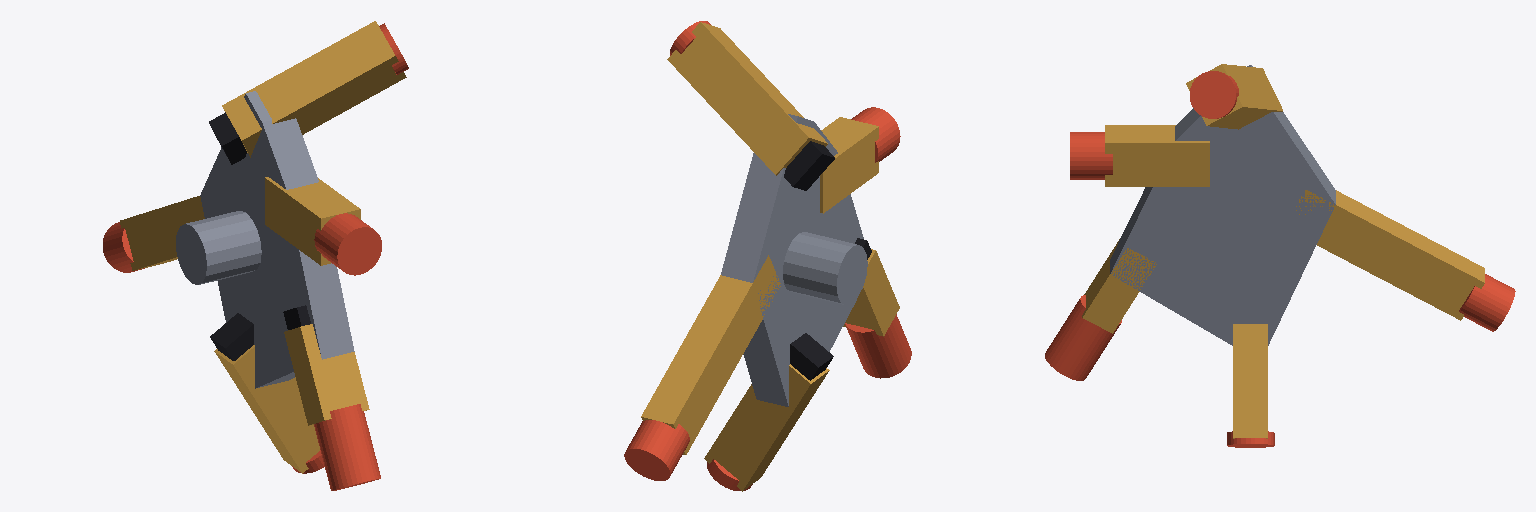
robot.urdf — g0056_c06:
<robot name="g0056_c06">
  <link name="palm">
    <visual name="palm_palm1">
      <origin xyz="0 0 0" rpy="0 0 0" />
      <geometry>
        <mesh filename="palm_palm1.obj" />
      </geometry>
      <material name="palm_palm1_mat">
        <color rgba="0.55 0.57 0.62 1" />
      </material>
    </visual>
    <collision>
      <origin xyz="0 0 0" rpy="0 0 0" />
      <geometry>
        <mesh filename="palm_palm1.obj" />
      </geometry>
    </collision>
    <visual name="palm_mount2">
      <origin xyz="0 0 0" rpy="0 0 0" />
      <geometry>
        <mesh filename="palm_mount2.obj" />
      </geometry>
      <material name="palm_mount2_mat">
        <color rgba="0.55 0.57 0.62 1" />
      </material>
    </visual>
    <collision>
      <origin xyz="0 0 0" rpy="0 0 0" />
      <geometry>
        <mesh filename="palm_mount2.obj" />
      </geometry>
    </collision>
    <visual name="palm_motor3">
      <origin xyz="-0.0045 -0.07625 -0.0335048095" rpy="1.04719755 -3.061617e-17 -5.30287619e-17" />
      <geometry>
        <box size="0.029 0.034 0.02" />
      </geometry>
      <material name="palm_motor3_mat">
        <color rgba="0.15 0.15 0.17 1" />
      </material>
    </visual>
    <collision>
      <origin xyz="-0.0045 -0.07625 -0.0335048095" rpy="1.04719755 -3.061617e-17 -5.30287619e-17" />
      <geometry>
        <box size="0.029 0.034 0.02" />
      </geometry>
    </collision>
    <visual name="palm_motor4">
      <origin xyz="0 -0.0325 0.04" rpy="-0 -1.57079633 0" />
      <geometry>
        <box size="0.029 0.034 0.02" />
      </geometry>
      <material name="palm_motor4_mat">
        <color rgba="0.15 0.15 0.17 1" />
      </material>
    </visual>
    <collision>
      <origin xyz="0 -0.0325 0.04" rpy="-0 -1.57079633 0" />
      <geometry>
        <box size="0.029 0.034 0.02" />
      </geometry>
    </collision>
    <visual name="palm_motor5">
      <origin xyz="-0.0117894192 -7.95431429e-19 -0.0735048095" rpy="1.57079633 -0.523598776 -1.41410032e-16" />
      <geometry>
        <box size="0.029 0.034 0.02" />
      </geometry>
      <material name="palm_motor5_mat">
        <color rgba="0.15 0.15 0.17 1" />
      </material>
    </visual>
    <collision>
      <origin xyz="-0.0117894192 -7.95431429e-19 -0.0735048095" rpy="1.57079633 -0.523598776 -1.41410032e-16" />
      <geometry>
        <box size="0.029 0.034 0.02" />
      </geometry>
    </collision>
    <visual name="palm_motor6">
      <origin xyz="-0.0127044827 0.001875 0.0767524047" rpy="-0.713724379 0.848062079 0.713724379" />
      <geometry>
        <box size="0.029 0.034 0.02" />
      </geometry>
      <material name="palm_motor6_mat">
        <color rgba="0.15 0.15 0.17 1" />
      </material>
    </visual>
    <collision>
      <origin xyz="-0.0127044827 0.001875 0.0767524047" rpy="-0.713724379 0.848062079 0.713724379" />
      <geometry>
        <box size="0.029 0.034 0.02" />
      </geometry>
    </collision>
    <visual name="palm_motor7">
      <origin xyz="0 0.0335048095 0.00375" rpy="1.57079633 1.04719755 -1.57079633" />
      <geometry>
        <box size="0.029 0.034 0.02" />
      </geometry>
      <material name="palm_motor7_mat">
        <color rgba="0.15 0.15 0.17 1" />
      </material>
    </visual>
    <collision>
      <origin xyz="0 0.0335048095 0.00375" rpy="1.57079633 1.04719755 -1.57079633" />
      <geometry>
        <box size="0.029 0.034 0.02" />
      </geometry>
    </collision>
    <inertial>
      <origin xyz="0 -0.0149594131 -0.00493491958" rpy="1.57079633 -1.39693241 1.57079633" />
      <mass value="0.766393083" />
      <inertia ixx="0.000835600602" ixy="0" ixz="0" iyy="0.00169661245" iyz="0" izz="0.00245863931" />
    </inertial>
  </link>
  <link name="f0_link0">
    <visual name="f0_link0_link1">
      <origin xyz="0.01875 0 -1.38777878e-17" rpy="0 4.06369831e-17 0" />
      <geometry>
        <box size="0.0615 0.033 0.024" />
      </geometry>
      <material name="f0_link0_link1_mat">
        <color rgba="0.80 0.62 0.30 1" />
      </material>
    </visual>
    <collision>
      <origin xyz="0.01875 0 -1.38777878e-17" rpy="0 4.06369831e-17 0" />
      <geometry>
        <box size="0.0615 0.033 0.024" />
      </geometry>
    </collision>
    <inertial>
      <origin xyz="0.01875 0 0" rpy="0 0 0" />
      <mass value="0.085239" />
      <inertia ixx="1.18269113e-05" ixy="0" ixz="0" iyy="3.09577393e-05" iyz="0" izz="3.46017066e-05" />
    </inertial>
  </link>
  <link name="f0_link1">
    <visual name="f0_link1_link1">
      <origin xyz="0.029 0 -6.9388939e-18" rpy="-1.57079633 -0 -1.57079633" />
      <geometry>
        <cylinder radius="0.0165" length="0.049" />
      </geometry>
      <material name="f0_link1_link1_mat">
        <color rgba="0.85 0.35 0.25 1" />
      </material>
    </visual>
    <collision>
      <origin xyz="0.029 0 -6.9388939e-18" rpy="-1.57079633 -0 -1.57079633" />
      <geometry>
        <cylinder radius="0.0165" length="0.049" />
      </geometry>
    </collision>
    <inertial>
      <origin xyz="0.029 0 0" rpy="0 0 0" />
      <mass value="0.106270851" />
      <inertia ixx="1.35696277e-05" ixy="0" ixz="0" iyy="5.30015704e-05" iyz="0" izz="5.30015704e-05" />
    </inertial>
  </link>
  <link name="f1_link0">
    <visual name="f1_link0_link1">
      <origin xyz="0.02375 0 0" rpy="0 -0 0" />
      <geometry>
        <box size="0.0715 0.029 0.033" />
      </geometry>
      <material name="f1_link0_link1_mat">
        <color rgba="0.80 0.62 0.30 1" />
      </material>
    </visual>
    <collision>
      <origin xyz="0.02375 0 0" rpy="0 -0 0" />
      <geometry>
        <box size="0.0715 0.029 0.033" />
      </geometry>
    </collision>
    <inertial>
      <origin xyz="0.02375 0 0" rpy="0 0 0" />
      <mass value="0.119744625" />
      <inertia ixx="1.92589272e-05" ixy="0" ixz="0" iyy="6.18805296e-05" iyz="0" izz="5.94058074e-05" />
    </inertial>
  </link>
  <link name="f1_link1">
    <visual name="f1_link1_link1">
      <origin xyz="0.019 0 3.46944695e-18" rpy="-1.57079633 -0 -1.57079633" />
      <geometry>
        <cylinder radius="0.0165" length="0.029" />
      </geometry>
      <material name="f1_link1_link1_mat">
        <color rgba="0.85 0.35 0.25 1" />
      </material>
    </visual>
    <collision>
      <origin xyz="0.019 0 3.46944695e-18" rpy="-1.57079633 -0 -1.57079633" />
      <geometry>
        <cylinder radius="0.0165" length="0.029" />
      </geometry>
    </collision>
    <inertial>
      <origin xyz="0.019 0 0" rpy="0 0 0" />
      <mass value="0.0763354" />
      <inertia ixx="9.49466441e-06" ixy="0" ixz="0" iyy="2.24143997e-05" iyz="0" izz="2.24143997e-05" />
    </inertial>
  </link>
  <link name="f2_link0">
    <visual name="f2_link0_link1">
      <origin xyz="0.03875 0 1.54074396e-33" rpy="-5.52779628e-33 -5.52024069e-33 4.06369831e-17" />
      <geometry>
        <box size="0.1015 0.033 0.024" />
      </geometry>
      <material name="f2_link0_link1_mat">
        <color rgba="0.80 0.62 0.30 1" />
      </material>
    </visual>
    <collision>
      <origin xyz="0.03875 0 1.54074396e-33" rpy="-5.52779628e-33 -5.52024069e-33 4.06369831e-17" />
      <geometry>
        <box size="0.1015 0.033 0.024" />
      </geometry>
    </collision>
    <inertial>
      <origin xyz="0.03875 0 0" rpy="0 0 0" />
      <mass value="0.140679" />
      <inertia ixx="1.95192113e-05" ixy="0" ixz="0" iyy="0.000127528444" iyz="0" izz="0.000133542472" />
    </inertial>
  </link>
  <link name="f2_link1">
    <visual name="f2_link1_link1">
      <origin xyz="0.009 0 0" rpy="-1.57079633 -0 -1.57079633" />
      <geometry>
        <cylinder radius="0.0165" length="0.009" />
      </geometry>
      <material name="f2_link1_link1_mat">
        <color rgba="0.85 0.35 0.25 1" />
      </material>
    </visual>
    <collision>
      <origin xyz="0.009 0 0" rpy="-1.57079633 -0 -1.57079633" />
      <geometry>
        <cylinder radius="0.0165" length="0.009" />
      </geometry>
    </collision>
    <inertial>
      <origin xyz="0.009 0 0" rpy="0 0 0" />
      <mass value="0.046399949" />
      <inertia ixx="5.41970115e-06" ixy="0" ixz="0" iyy="7.09430898e-06" iyz="0" izz="7.09430898e-06" />
    </inertial>
  </link>
  <link name="f3_link0">
    <visual name="f3_link0_link1">
      <origin xyz="0.04375 1.38777878e-17 0" rpy="5.55111512e-17 1.99276067e-18 6.09554746e-17" />
      <geometry>
        <box size="0.1115 0.033 0.029" />
      </geometry>
      <material name="f3_link0_link1_mat">
        <color rgba="0.80 0.62 0.30 1" />
      </material>
    </visual>
    <collision>
      <origin xyz="0.04375 1.38777878e-17 0" rpy="5.55111512e-17 1.99276067e-18 6.09554746e-17" />
      <geometry>
        <box size="0.1115 0.033 0.029" />
      </geometry>
    </collision>
    <inertial>
      <origin xyz="0.04375 0 0" rpy="0 0 0" />
      <mass value="0.186734625" />
      <inertia ixx="3.00331522e-05" ixy="0" ixz="0" iyy="0.000206547947" iyz="0" izz="0.000210407129" />
    </inertial>
  </link>
  <link name="f3_link1">
    <visual name="f3_link1_link1">
      <origin xyz="0.009 -1.38777878e-17 -6.9388939e-18" rpy="-1.57079633 -0 -1.57079633" />
      <geometry>
        <cylinder radius="0.0165" length="0.009" />
      </geometry>
      <material name="f3_link1_link1_mat">
        <color rgba="0.85 0.35 0.25 1" />
      </material>
    </visual>
    <collision>
      <origin xyz="0.009 -1.38777878e-17 -6.9388939e-18" rpy="-1.57079633 -0 -1.57079633" />
      <geometry>
        <cylinder radius="0.0165" length="0.009" />
      </geometry>
    </collision>
    <inertial>
      <origin xyz="0.009 0 0" rpy="0 0 0" />
      <mass value="0.046399949" />
      <inertia ixx="5.41970115e-06" ixy="0" ixz="0" iyy="7.09430898e-06" iyz="0" izz="7.09430898e-06" />
    </inertial>
  </link>
  <link name="f4_link0">
    <visual name="f4_link0_link1">
      <origin xyz="0.02375 0 -3.46944695e-18" rpy="0 2.57628149e-17 0" />
      <geometry>
        <box size="0.0715 0.024 0.033" />
      </geometry>
      <material name="f4_link0_link1_mat">
        <color rgba="0.80 0.62 0.30 1" />
      </material>
    </visual>
    <collision>
      <origin xyz="0.02375 0 -3.46944695e-18" rpy="0 2.57628149e-17 0" />
      <geometry>
        <box size="0.0715 0.024 0.033" />
      </geometry>
    </collision>
    <inertial>
      <origin xyz="0.02375 0 0" rpy="0 0 0" />
      <mass value="0.099099" />
      <inertia ixx="1.37499863e-05" ixy="0" ixz="0" iyy="5.12114728e-05" iyz="0" izz="4.69749906e-05" />
    </inertial>
  </link>
  <link name="f4_link1">
    <visual name="f4_link1_link1">
      <origin xyz="0.03375 0 6.9388939e-18" rpy="0 2.57628149e-17 0" />
      <geometry>
        <box size="0.0915 0.024 0.033" />
      </geometry>
      <material name="f4_link1_link1_mat">
        <color rgba="0.80 0.62 0.30 1" />
      </material>
    </visual>
    <collision>
      <origin xyz="0.03375 0 6.9388939e-18" rpy="0 2.57628149e-17 0" />
      <geometry>
        <box size="0.0915 0.024 0.033" />
      </geometry>
    </collision>
    <inertial>
      <origin xyz="0.03375 0 0" rpy="0 0 0" />
      <mass value="0.126819" />
      <inertia ixx="1.75961363e-05" ixy="0" ixz="0" iyy="9.99888553e-05" iyz="0" izz="9.45673431e-05" />
    </inertial>
  </link>
  <link name="f4_link2">
    <visual name="f4_link2_link1">
      <origin xyz="0.019 0 5.20417043e-18" rpy="-1.57079633 -0 -1.57079633" />
      <geometry>
        <cylinder radius="0.0165" length="0.029" />
      </geometry>
      <material name="f4_link2_link1_mat">
        <color rgba="0.85 0.35 0.25 1" />
      </material>
    </visual>
    <collision>
      <origin xyz="0.019 0 5.20417043e-18" rpy="-1.57079633 -0 -1.57079633" />
      <geometry>
        <cylinder radius="0.0165" length="0.029" />
      </geometry>
    </collision>
    <inertial>
      <origin xyz="0.019 0 0" rpy="0 0 0" />
      <mass value="0.0763354" />
      <inertia ixx="9.49466441e-06" ixy="0" ixz="0" iyy="2.24143997e-05" iyz="0" izz="2.24143997e-05" />
    </inertial>
  </link>
  <joint name="f0_j0" type="revolute">
    <parent link="palm" />
    <child link="f0_link0" />
    <origin xyz="-0.0045 -0.08 -0.04" rpy="0 1.04719755 -1.57079633" />
    <axis xyz="0 1 6.123234e-17" />
    <limit effort="0.5" lower="-0.523598776" upper="0.523598776" velocity="5" />
    <dynamics damping="0.0775033" friction="0" />
  </joint>
  <joint name="f0_j1" type="revolute">
    <parent link="f0_link0" />
    <child link="f0_link1" />
    <origin xyz="0.04 0 0" rpy="0 0 0" />
    <axis xyz="0 1 6.123234e-17" />
    <limit effort="0.5" lower="-0.523598776" upper="0.523598776" velocity="5" />
    <dynamics damping="0.0775033" friction="0" />
  </joint>
  <joint name="f1_j0" type="revolute">
    <parent link="palm" />
    <child link="f1_link0" />
    <origin xyz="0 -0.04 0.04" rpy="0 1.8369702e-16 -1.57079633" />
    <axis xyz="0 0 1" />
    <limit effort="0.5" lower="-0.523598776" upper="1.57079633" velocity="5" />
    <dynamics damping="0.0775033" friction="0" />
  </joint>
  <joint name="f1_j1" type="revolute">
    <parent link="f1_link0" />
    <child link="f1_link1" />
    <origin xyz="0.05 0 0" rpy="0 0 0" />
    <axis xyz="-0 -1 -6.123234e-17" />
    <limit effort="0.5" lower="-0.523598776" upper="0.523598776" velocity="5" />
    <dynamics damping="0.0775033" friction="0" />
  </joint>
  <joint name="f2_j0" type="revolute">
    <parent link="palm" />
    <child link="f2_link0" />
    <origin xyz="-0.00803941916 0 -0.08" rpy="1.57079633 1.04719755 2.12115048e-16" />
    <axis xyz="0 1 6.123234e-17" />
    <limit effort="0.5" lower="-0.523598776" upper="0.523598776" velocity="5" />
    <dynamics damping="0.0775033" friction="0" />
  </joint>
  <joint name="f2_j1" type="revolute">
    <parent link="f2_link0" />
    <child link="f2_link1" />
    <origin xyz="0.08 0 0" rpy="0 0 0" />
    <axis xyz="0 1 6.123234e-17" />
    <limit effort="0.5" lower="-0.523598776" upper="0.523598776" velocity="5" />
    <dynamics damping="0.0775033" friction="0" />
  </joint>
  <joint name="f3_j0" type="revolute">
    <parent link="palm" />
    <child link="f3_link0" />
    <origin xyz="-0.00620929214 0 0.08" rpy="-0.982793723 -0.447832397 -0.281034902" />
    <axis xyz="-0 -1 -6.123234e-17" />
    <limit effort="0.5" lower="-0.523598776" upper="0.523598776" velocity="5" />
    <dynamics damping="0.0775033" friction="0" />
  </joint>
  <joint name="f3_j1" type="revolute">
    <parent link="f3_link0" />
    <child link="f3_link1" />
    <origin xyz="0.09 0 0" rpy="0 0 0" />
    <axis xyz="0 0 1" />
    <limit effort="0.5" lower="-0.523598776" upper="1.57079633" velocity="5" />
    <dynamics damping="0.0775033" friction="0" />
  </joint>
  <joint name="f4_j0" type="revolute">
    <parent link="palm" />
    <child link="f4_link0" />
    <origin xyz="0 0.04 0" rpy="3.14159265 0.523598776 1.57079633" />
    <axis xyz="0 0 1" />
    <limit effort="0.5" lower="-0.523598776" upper="1.57079633" velocity="5" />
    <dynamics damping="0.0775033" friction="0" />
  </joint>
  <joint name="f4_j1" type="revolute">
    <parent link="f4_link0" />
    <child link="f4_link1" />
    <origin xyz="0.05 0 0" rpy="0 0 0" />
    <axis xyz="0 0 1" />
    <limit effort="0.5" lower="-0.523598776" upper="1.57079633" velocity="5" />
    <dynamics damping="0.0775033" friction="0" />
  </joint>
  <joint name="f4_j2" type="revolute">
    <parent link="f4_link1" />
    <child link="f4_link2" />
    <origin xyz="0.07 0 0" rpy="0 0 0" />
    <axis xyz="0 0 1" />
    <limit effort="0.5" lower="-0.523598776" upper="1.57079633" velocity="5" />
    <dynamics damping="0.0775033" friction="0" />
  </joint>
</robot>

--- Facts derived from the render (not from the file) ---
Views: 3 orthographic renders of the robot side by side, from view 1: azimuth 30°, elevation 25°; view 2: azimuth 150°, elevation 25°; view 3: azimuth 270°, elevation 25°.
Robot: g0056_c06 — 12 links, 11 joints (11 revolute); root link palm; default pose: all joints at 0.
Visible links, largest first — view 1: palm, f3_link0, f2_link0, f0_link0, f1_link0, f0_link1, f1_link1, f4_link1, f4_link2, f4_link0; view 2: palm, f3_link0, f4_link1, f2_link0, f4_link0, f1_link0, f4_link2, f0_link1, f0_link0, f1_link1, f2_link1; view 3: palm, f4_link1, f1_link0, f2_link0, f4_link0, f0_link1, f0_link0, f3_link0, f4_link2, f3_link1, f1_link1, f2_link1.
Link boxes in pixels (x1,y1,x2,y2): palm: [176, 91, 354, 388]; f3_link0: [222, 21, 406, 157]; f2_link0: [214, 345, 319, 473]; f0_link0: [284, 324, 369, 425]; f1_link0: [265, 177, 360, 265]; f0_link1: [314, 404, 380, 490]; f1_link1: [314, 213, 381, 275]; f4_link1: [120, 201, 187, 270]; f4_link2: [103, 222, 144, 272]; f4_link0: [168, 196, 204, 235]; palm: [721, 114, 871, 406]; f3_link0: [667, 22, 827, 175]; f4_link1: [641, 307, 747, 454]; f2_link0: [704, 364, 829, 491]; f4_link0: [688, 255, 780, 361]; f1_link0: [820, 117, 878, 213]; f4_link2: [624, 420, 689, 480]; f0_link1: [845, 314, 911, 378]; f0_link0: [843, 249, 899, 336]; f1_link1: [851, 107, 900, 162]; f2_link1: [707, 459, 752, 490]; palm: [1110, 65, 1335, 345]; f4_link1: [1369, 208, 1484, 320]; f1_link0: [1105, 125, 1209, 186]; f2_link0: [1233, 324, 1267, 438]; f4_link0: [1296, 190, 1395, 273]; f0_link1: [1045, 295, 1121, 380]; f0_link0: [1082, 239, 1156, 333]; f3_link0: [1186, 64, 1282, 129]; f4_link2: [1459, 274, 1515, 331]; f3_link1: [1190, 71, 1238, 118]; f1_link1: [1070, 132, 1112, 179]; f2_link1: [1227, 431, 1274, 447].
Bounding box of the posed robot: 0.1437 × 0.3222 × 0.3119 m (x, y, z).
Meshes: 2 distinct files referenced, 2 mesh visuals loaded (2 OBJ).
